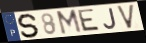8: (40, 12, 58, 36)
E: (77, 8, 101, 33)
J: (102, 7, 118, 31)
M: (55, 8, 84, 36)
S: (17, 13, 41, 39)
V: (115, 3, 136, 30)
